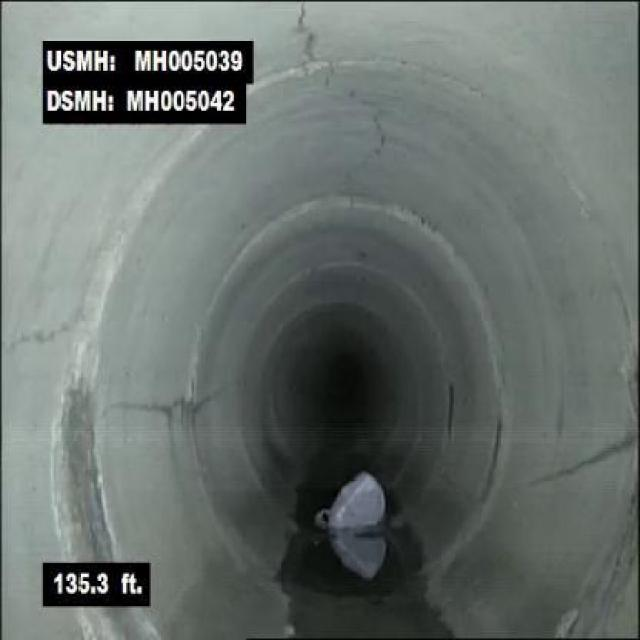Crack: (511, 434, 631, 495), (323, 71, 395, 172), (4, 303, 88, 352), (103, 394, 179, 441), (286, 5, 322, 64)
